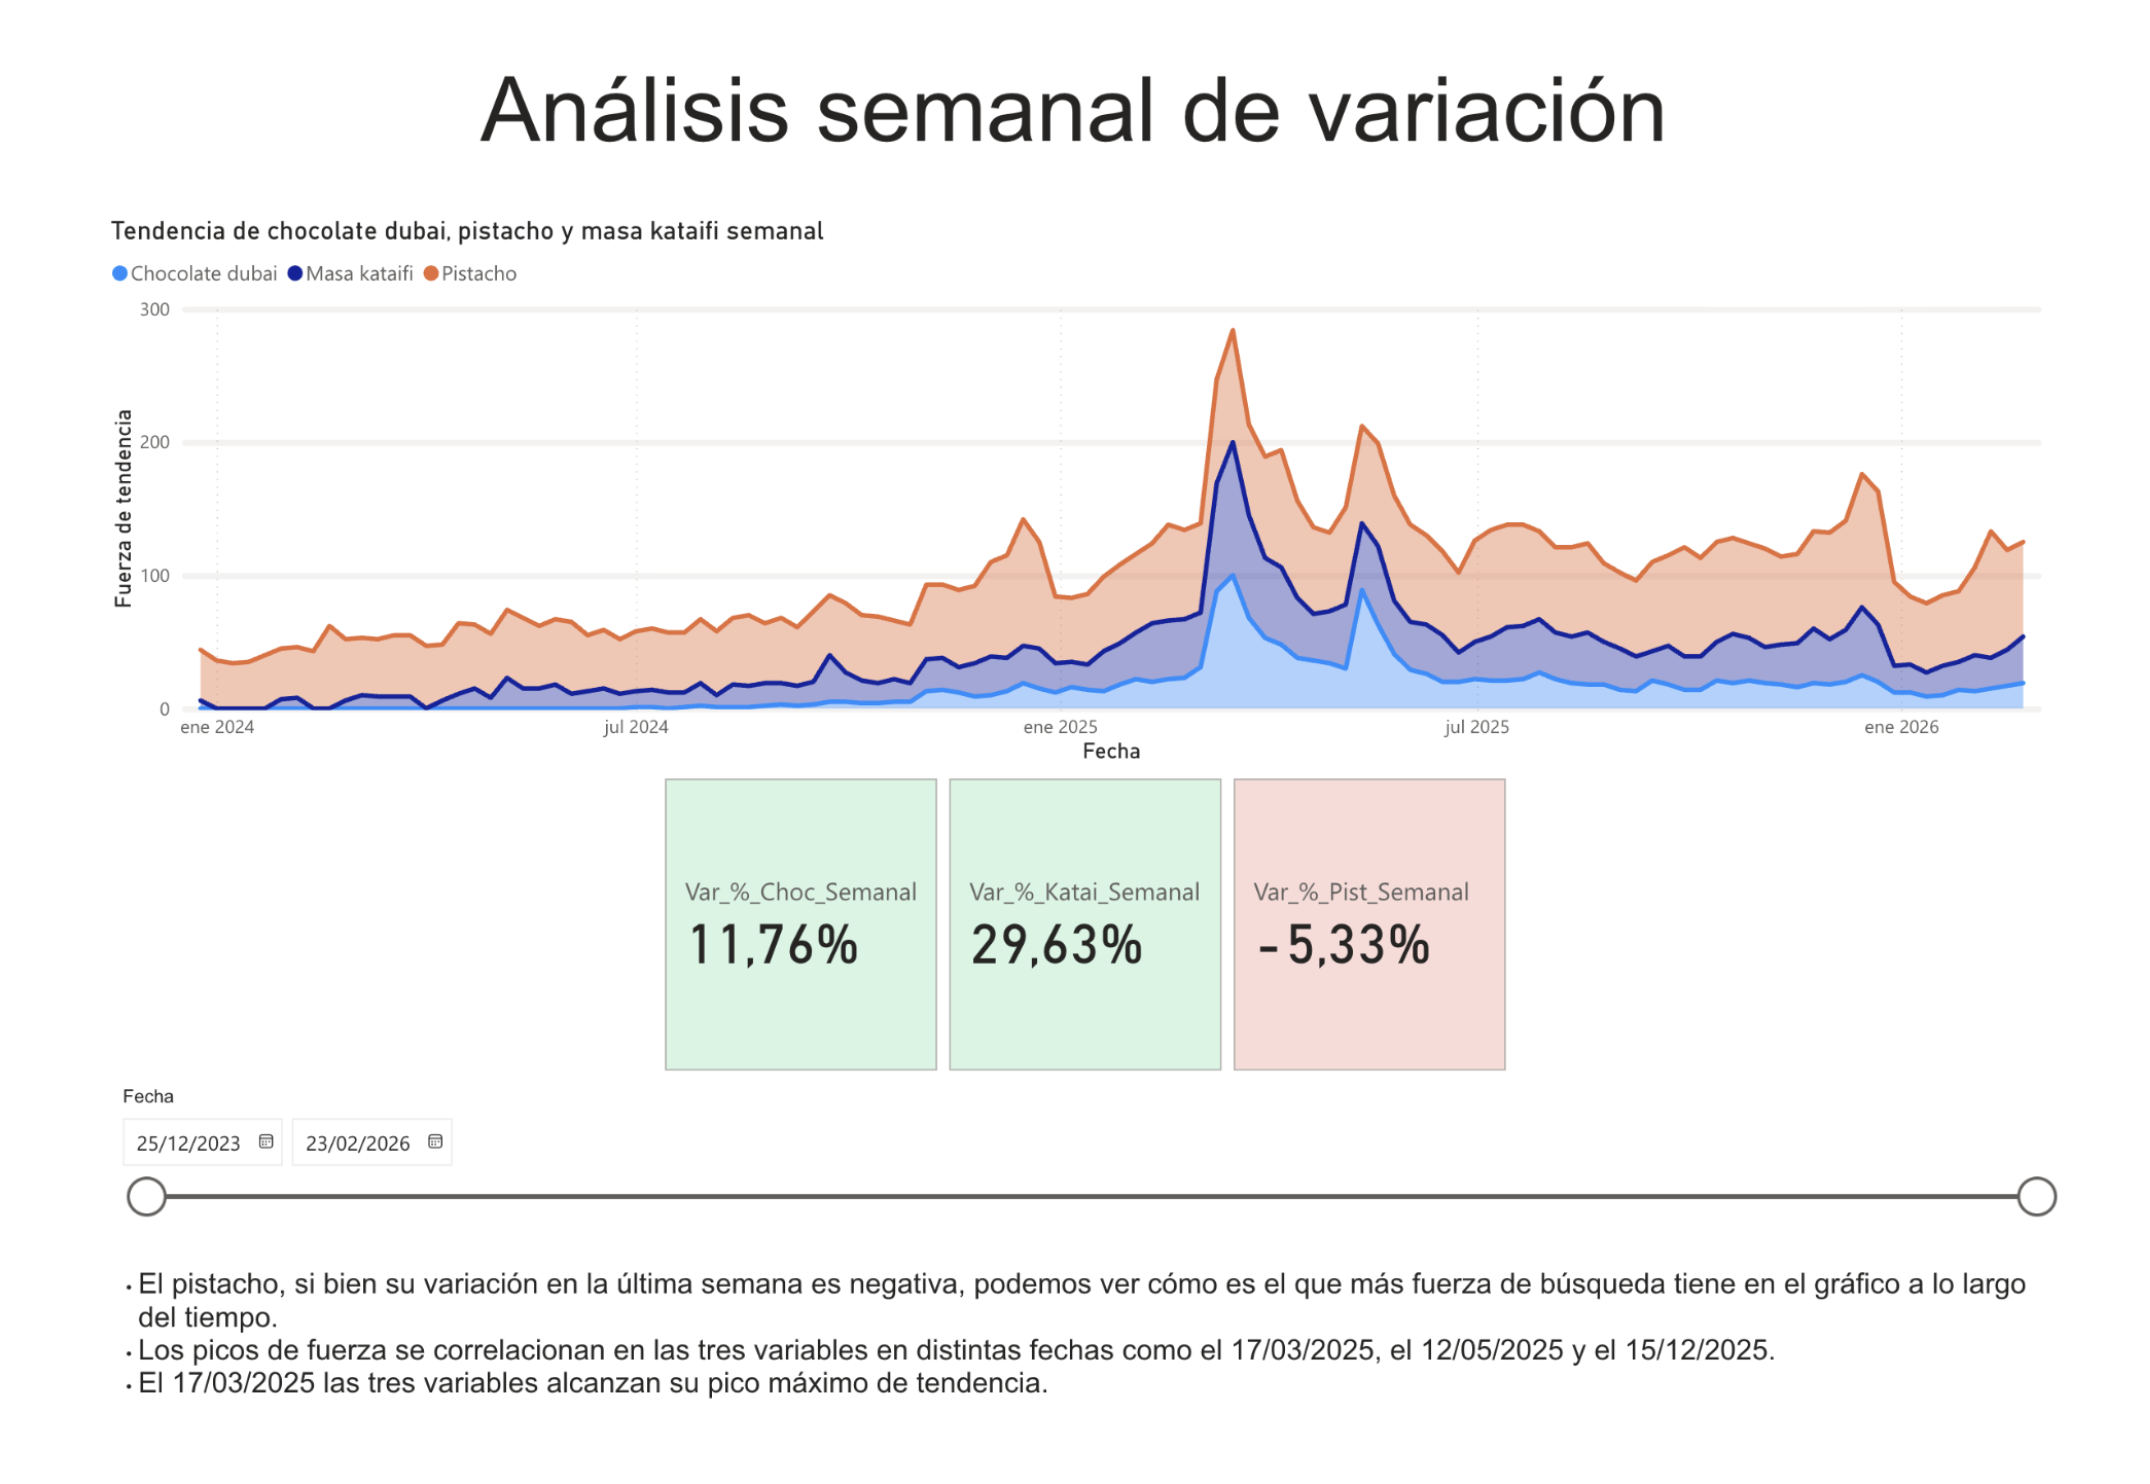

The dashboard page shown, as its layout file describes it:
{"tool":"powerbi","page":{"name":"Tendencias semanal","canvas":[1280,950],"ordinal":3},"visuals":[{"type":"stackedAreaChart","title":"Tendencia de chocolate dubai,  pistacho y masa kataifi semanal","fields":{"Y":["Sum(trends_chocolate_dubai_semanal.trend_chocolate_dubai)","Sum(trends_chocolate_dubai_semanal.trend_kataifi)","Sum(trends_chocolate_dubai_semanal.trend_pistacho)"],"Category":["Calendario.Fecha_Eje"]},"box":[0,150.9,1279.4,359.4],"z":0},{"type":"cardVisual","fields":{"Data":["trends_chocolate_dubai_semanal.Var_%_Choc_Semanal","trends_chocolate_dubai_semanal.Var_%_Katai_Semanal","trends_chocolate_dubai_semanal.Var_%_Pist_Semanal"]},"box":[360.6,510.3,558.3,200.1],"z":1000},{"type":"slicer","fields":{"Values":["Calendario.Fecha_Eje"]},"box":[0,710.4,1279.4,118.6],"z":2000},{"type":"textbox","box":[0,829,1279.4,103],"z":3000},{"type":"textbox","box":[240.8,41.9,796.7,81.5],"z":4000}]}

Visuals, with their boxes on the page's 1280x950 design canvas (x1, y1, x2, y2). These are canvas units, not pixel positions in the 2150x1484 screenshot, which may show the page scaled, cropped or inside an application window:
"Tendencia de chocolate dubai,  pistacho y masa kataifi semanal" stackedAreaChart: x1=0, y1=151, x2=1279, y2=510
cardVisual - trends_chocolate_dubai_semanal.Var_%_Choc_Semanal x trends_chocolate_dubai_semanal.Var_%_Katai_Semanal: x1=361, y1=510, x2=919, y2=710
slicer - Calendario.Fecha_Eje: x1=0, y1=710, x2=1279, y2=829
textbox: x1=0, y1=829, x2=1279, y2=932
textbox: x1=241, y1=42, x2=1038, y2=123
